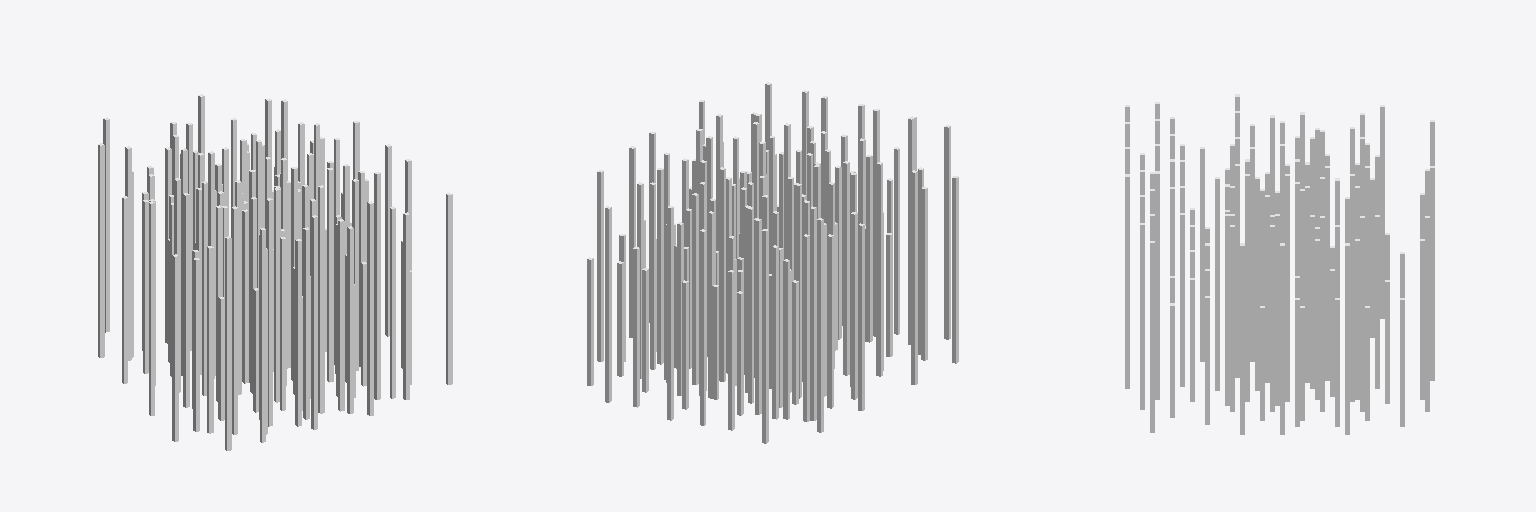
File: redTallGrass.obj
The picture shows the model from 3 angles: view 1: azimuth 30°, elevation 25°; view 2: azimuth 150°, elevation 25°; view 3: azimuth 270°, elevation 25°; orthographic projection.
Visible parts, largest first — view 1: object 1; view 2: object 1; view 3: object 1.
Part boxes in pixels (bbox=[...]): object 1: bbox=[98, 94, 452, 450]; object 1: bbox=[587, 82, 958, 443]; object 1: bbox=[1125, 94, 1434, 434].
Bounding box in the file's own units: 6.3 × 5 × 6.2.